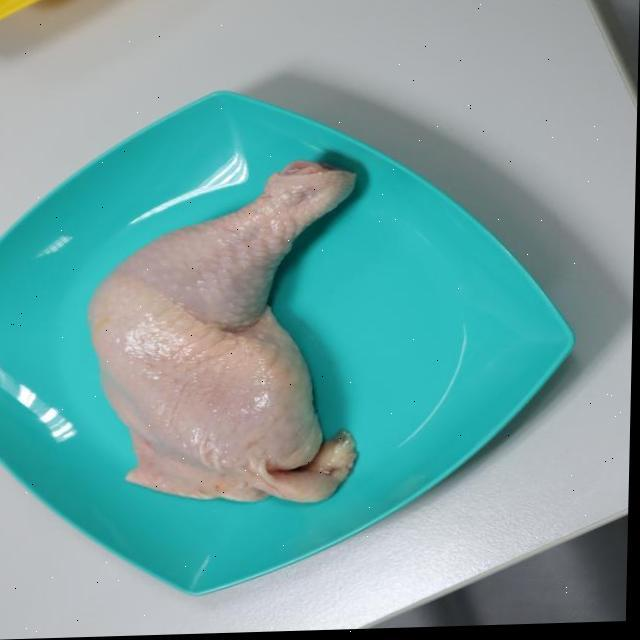quater: (88, 162, 374, 502)
